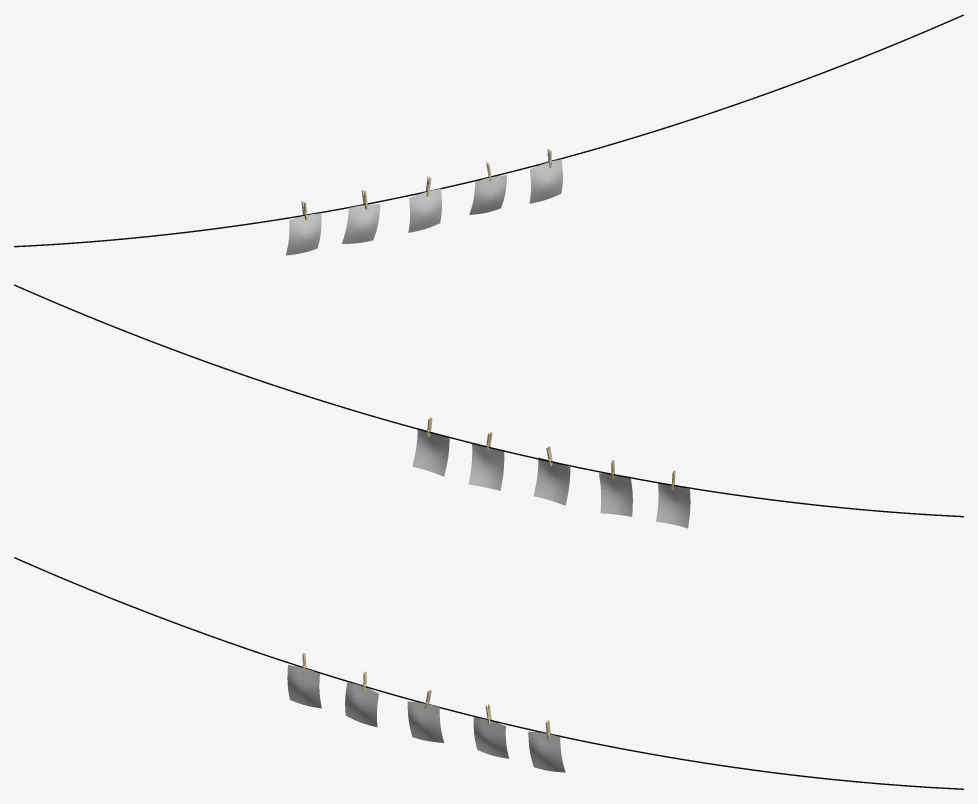
File: elrond-mafia-photo.glb
The picture shows the model from 3 angles, top to bottom: view 1: azimuth 30°, elevation 25°; view 2: azimuth 150°, elevation 25°; view 3: azimuth 330°, elevation 25°; orthographic projection.
Parts seen in each view (by area): view 1: Catenary, team-photo2, team-photo1, team-photo3, team-photo5, team-photo4; view 2: Catenary, team-photo4, team-photo3, team-photo1, team-photo5, team-photo2; view 3: Catenary, team-photo1, team-photo5, team-photo3, team-photo2, team-photo4.
Part boxes in pixels (<box>): Catenary: <box>14,14,963,247</box>; team-photo2: <box>341,204,380,243</box>; team-photo1: <box>286,213,321,255</box>; team-photo3: <box>408,188,441,232</box>; team-photo5: <box>529,159,562,203</box>; team-photo4: <box>469,175,506,214</box>; Catenary: <box>14,284,963,517</box>; team-photo4: <box>468,444,504,490</box>; team-photo3: <box>533,457,570,505</box>; team-photo1: <box>656,483,690,528</box>; team-photo5: <box>412,428,449,476</box>; team-photo2: <box>599,473,632,516</box>; Catenary: <box>14,557,963,789</box>; team-photo1: <box>287,665,321,708</box>; team-photo5: <box>528,731,565,772</box>; team-photo3: <box>407,701,444,742</box>; team-photo2: <box>345,682,378,727</box>; team-photo4: <box>473,717,509,758</box>.
Size of the model in its own units: 23.74 by 2.04 by 0.2779.
